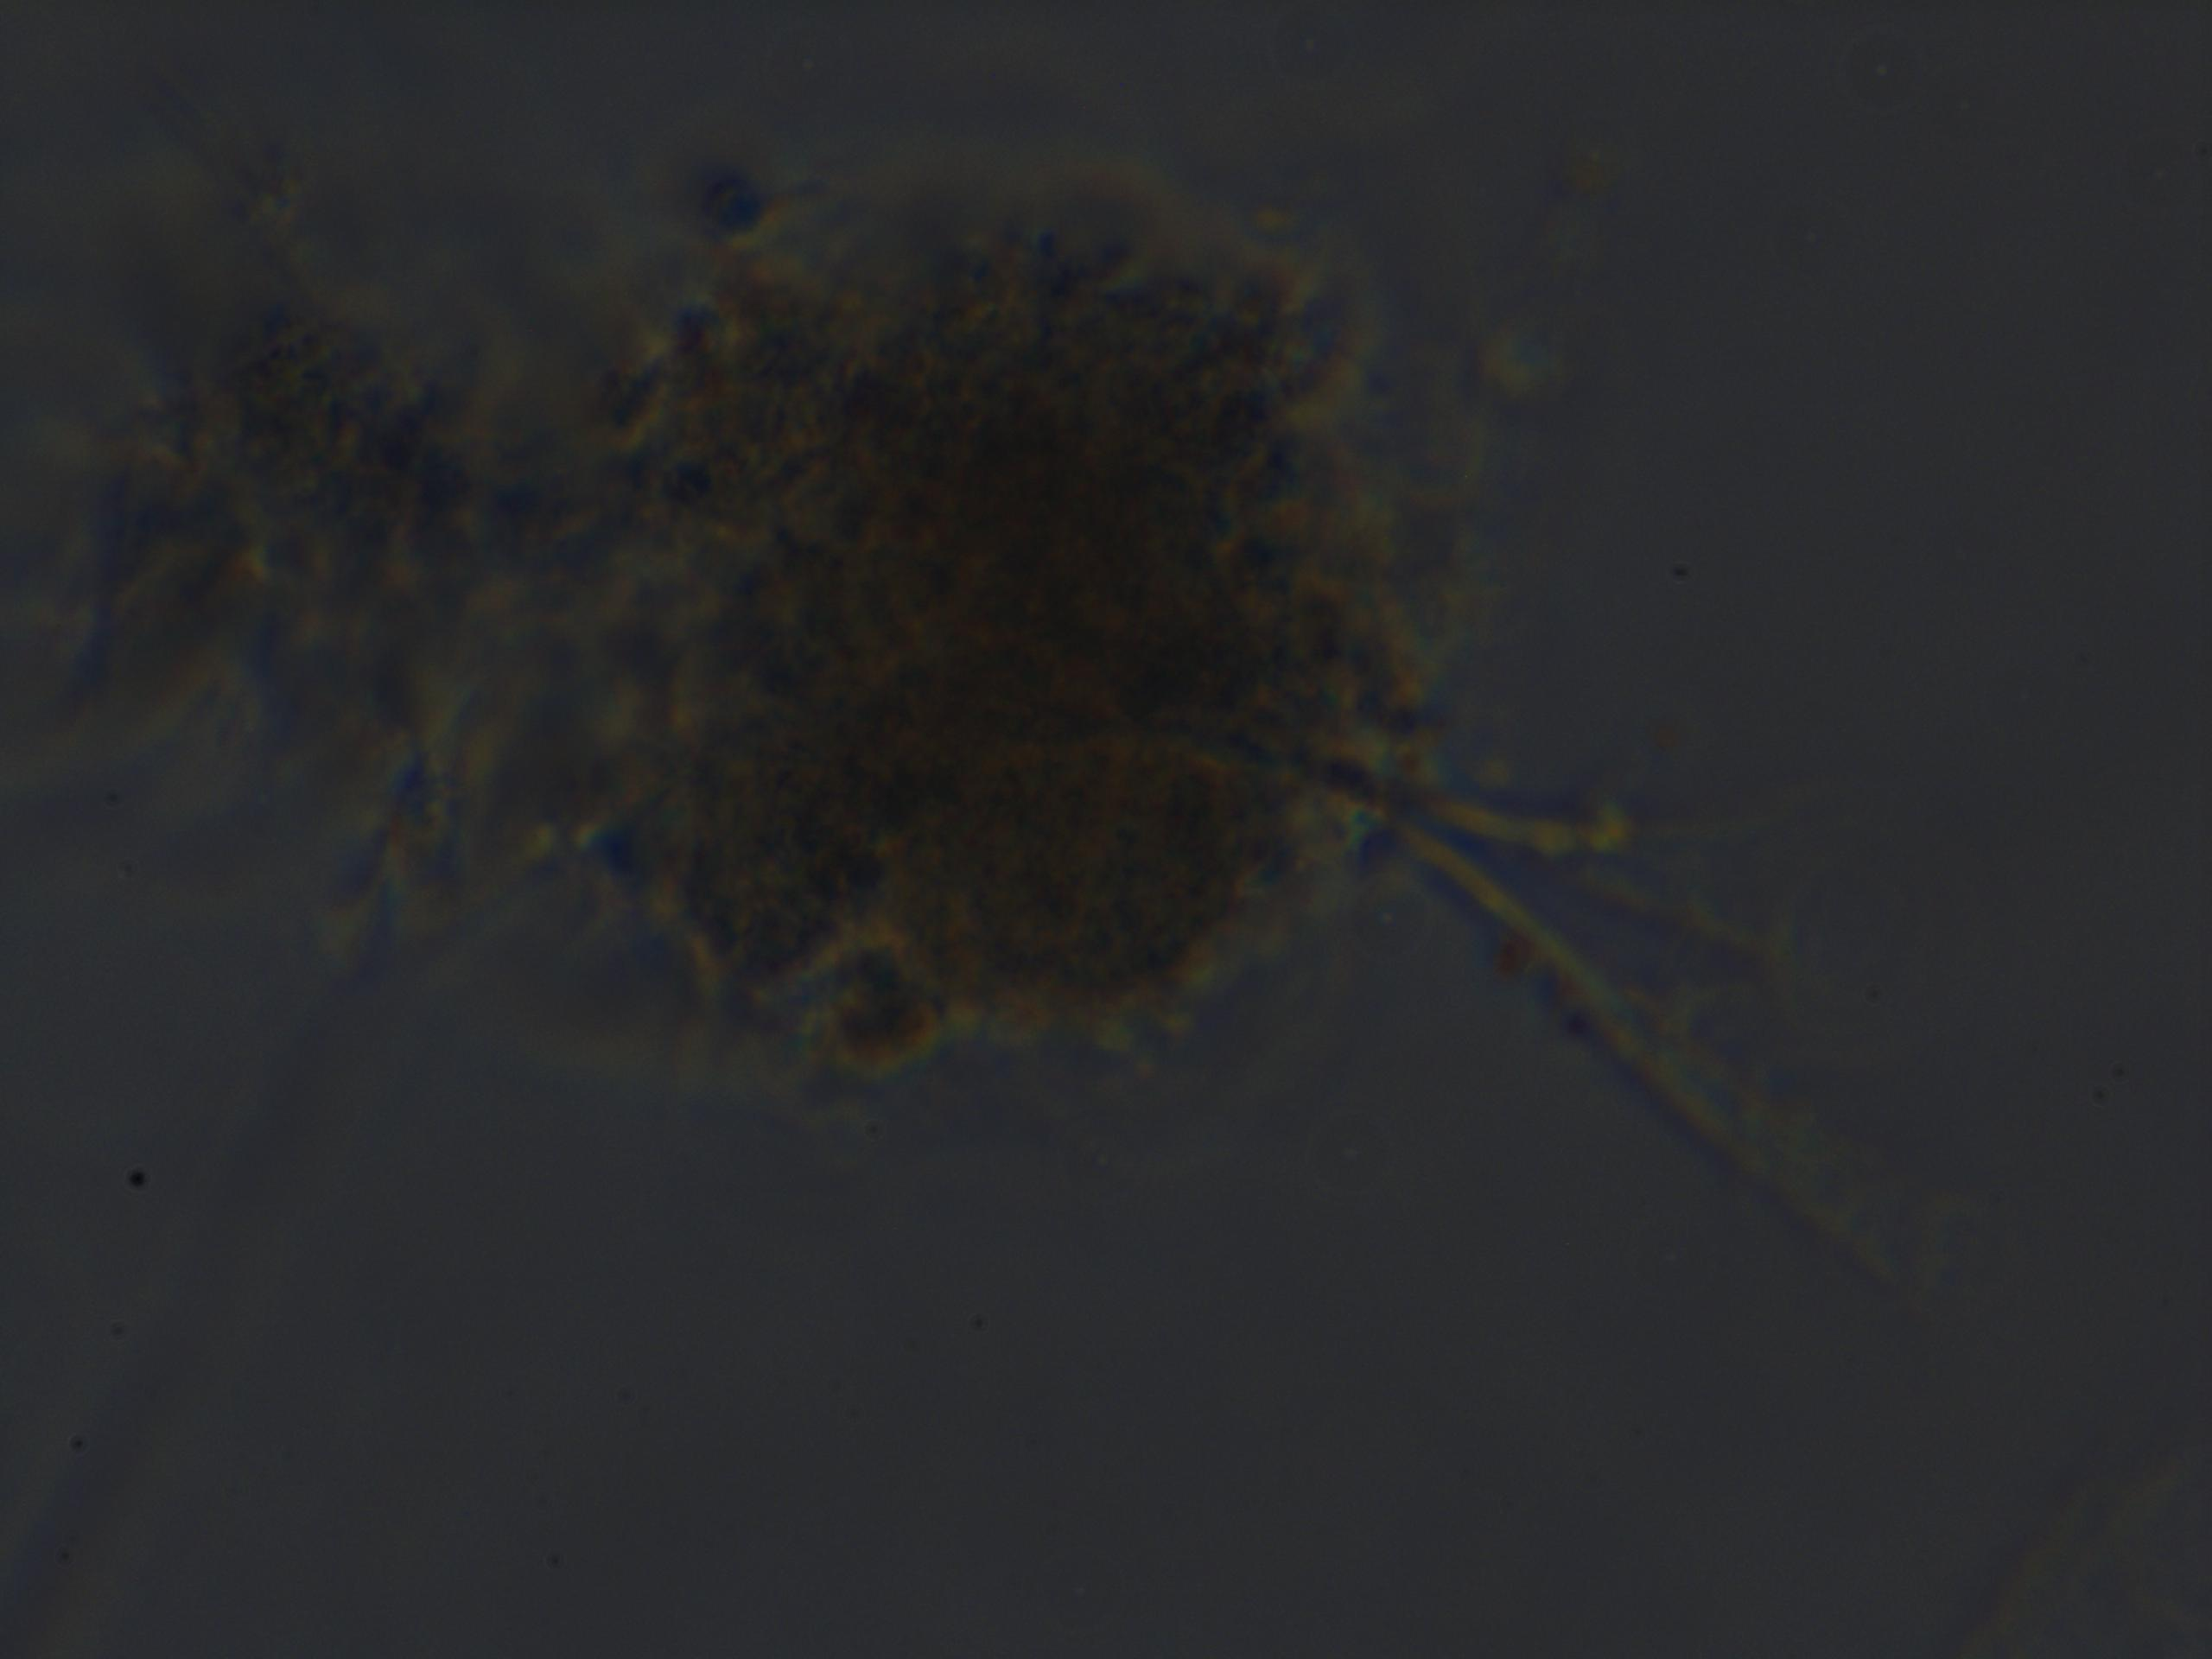filament: (1376, 753, 1986, 1337)
